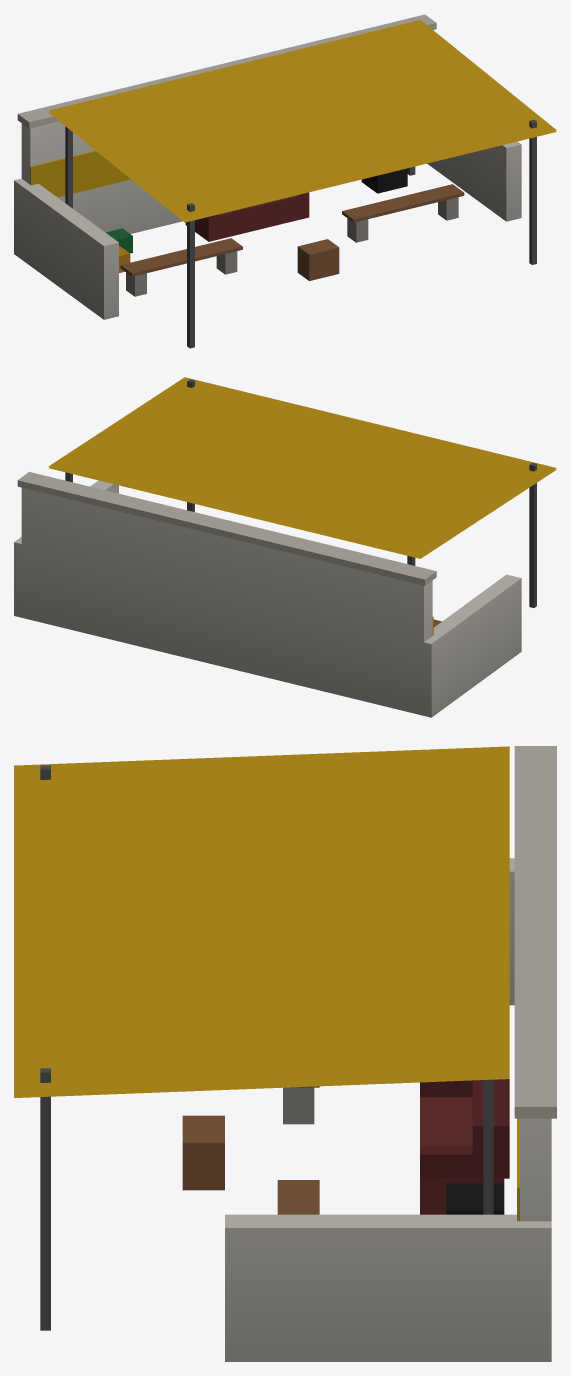
The model's file is ub_base_yellow.glb.
3 views of the same model, one above another, from view 1: azimuth 30°, elevation 25°; view 2: azimuth 150°, elevation 25°; view 3: azimuth 270°, elevation 25° (orthographic). The views are drawn at different scales.
Visible parts, largest first — view 1: ub_base_yellow; view 2: ub_base_yellow; view 3: ub_base_yellow.
Part boxes in pixels (x1=…): ub_base_yellow: x1=14, y1=14, x2=556, y2=348; ub_base_yellow: x1=14, y1=377, x2=556, y2=717; ub_base_yellow: x1=14, y1=746, x2=556, y2=1361.
Size of the model in its own units: 8.3 by 2.78 by 5.15.
